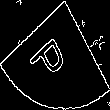P_NE: (31, 24, 79, 86)
